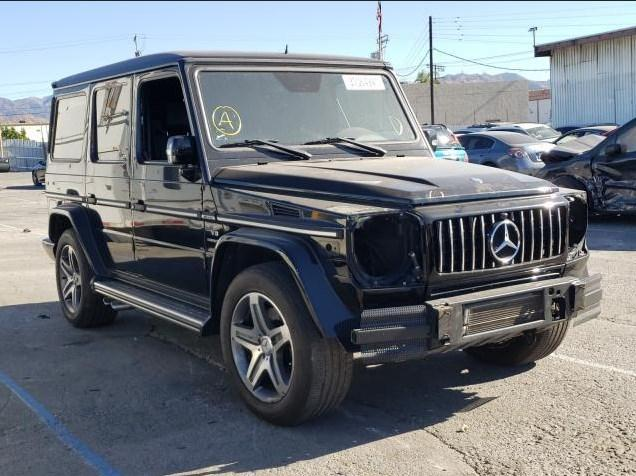Back-bumper: (41, 234, 55, 262)
Back-door: (85, 74, 139, 288)
Back-wheel: (55, 227, 91, 323)
Back-window: (95, 84, 129, 160), (53, 95, 86, 158)
Fender: (201, 185, 410, 353), (567, 227, 590, 261), (559, 186, 587, 202)
Front-bumper: (328, 254, 603, 364)
Front-door: (129, 66, 211, 313)
Front-wheel: (220, 261, 353, 426), (509, 321, 569, 366)
Grille: (402, 193, 570, 284)
Headlight: (346, 212, 419, 288), (569, 198, 587, 245)
Hood: (214, 156, 559, 206)
License-plate: (462, 290, 545, 336)
Mirror: (165, 135, 202, 183)
Quarter-panel: (42, 162, 114, 278)
Rocker-panel: (90, 274, 219, 335)
Roof: (52, 50, 379, 87)
Windshield: (198, 71, 417, 147)
